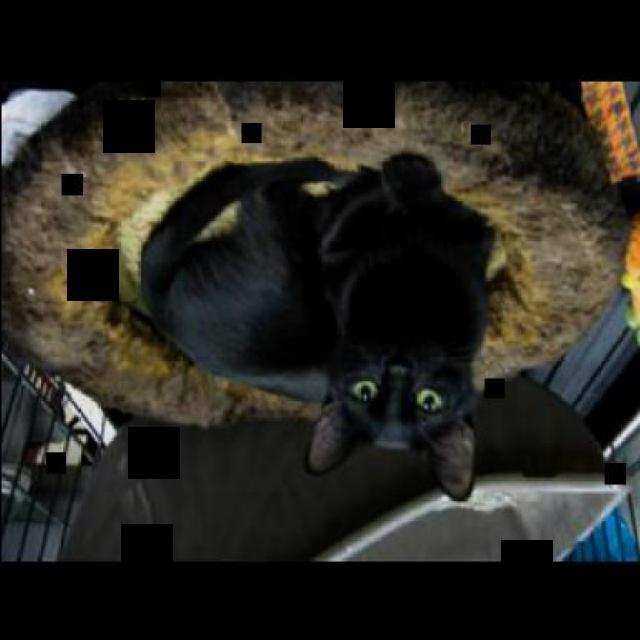unauthorized: (0, 76, 638, 501), (136, 149, 498, 502)
